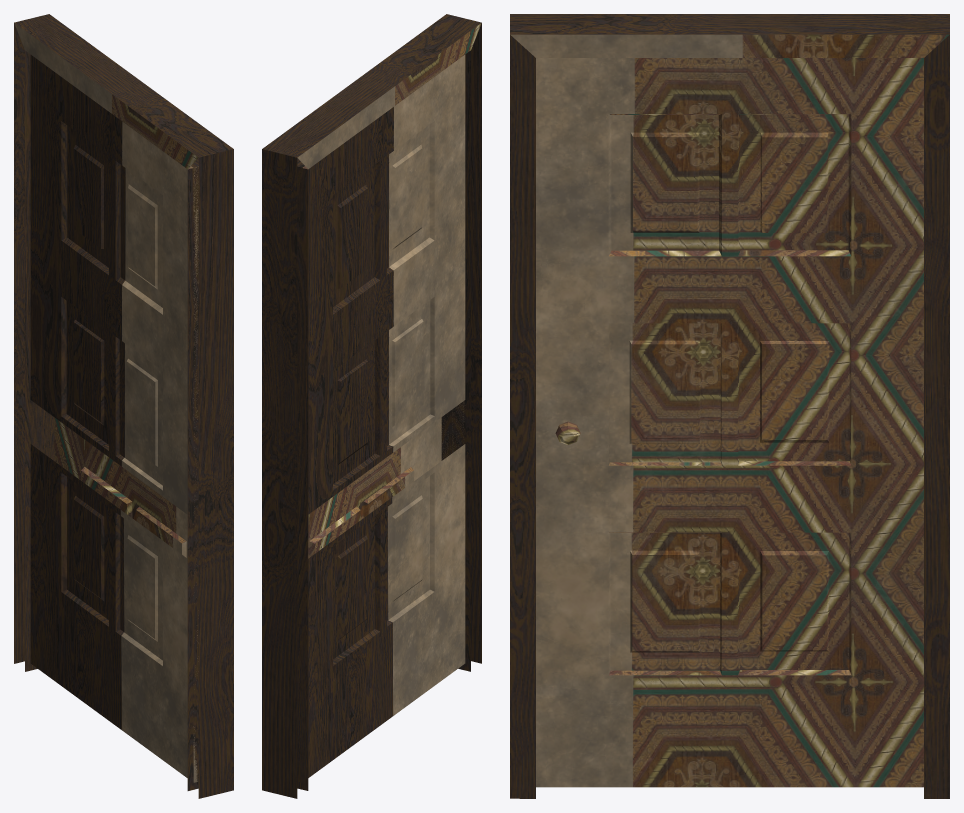
File: door.fbx
The picture shows the model from 3 angles, left to right: view 1: azimuth 30°, elevation 25°; view 2: azimuth 150°, elevation 25°; view 3: azimuth 270°, elevation 25°; orthographic projection. The views are drawn at different scales.
Parts seen in each view (by area): view 1: door, frame; view 2: door, frame; view 3: door, frame.
Part boxes in pixels (left/top/right/bottom): door: left=30, top=55, right=198, bottom=782; frame: left=14, top=14, right=233, bottom=798; door: left=297, top=55, right=465, bottom=782; frame: left=262, top=14, right=481, bottom=798; door: left=536, top=58, right=923, bottom=787; frame: left=510, top=14, right=949, bottom=798.
Size of the model in its own units: 0.1897 by 2.61 by 1.36.
1 material, 1 textured.
